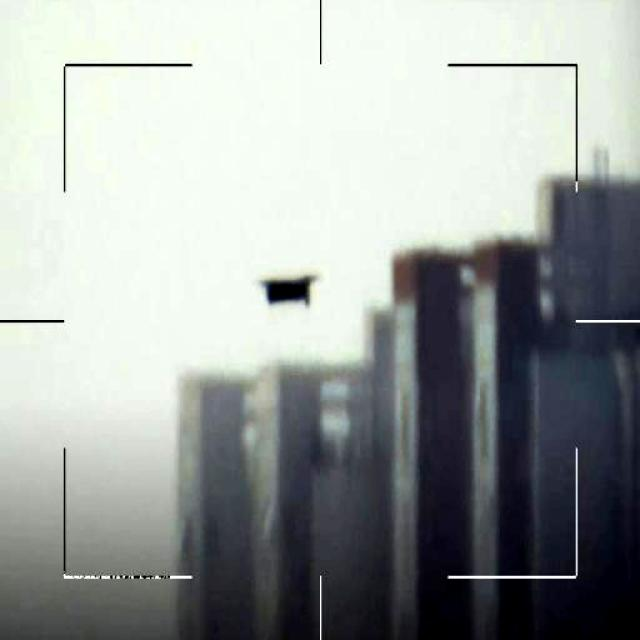bird: (266, 275, 318, 308)
